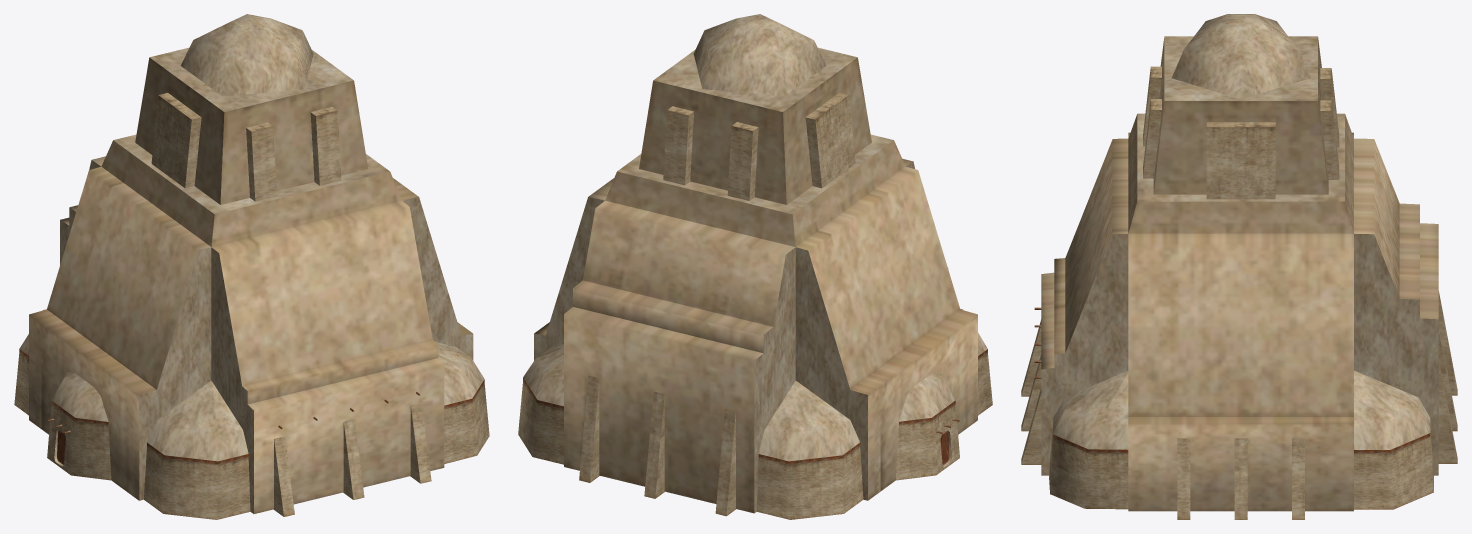
File: thm_tato_imprv_building_s11_l2.fbx
3 views of the same model, side by side, from view 1: azimuth 30°, elevation 25°; view 2: azimuth 150°, elevation 25°; view 3: azimuth 270°, elevation 25° (orthographic). The views are drawn at different scales.
Visible parts, largest first — view 1: mesh_node; view 2: mesh_node; view 3: mesh_node.
Boxes of the visible parts, <box> form: mesh_node: <box>14,14,489,519</box>; mesh_node: <box>518,14,992,519</box>; mesh_node: <box>1021,14,1457,519</box>.
Bounding box in the file's own units: 39.2 × 39.57 × 38.23.
